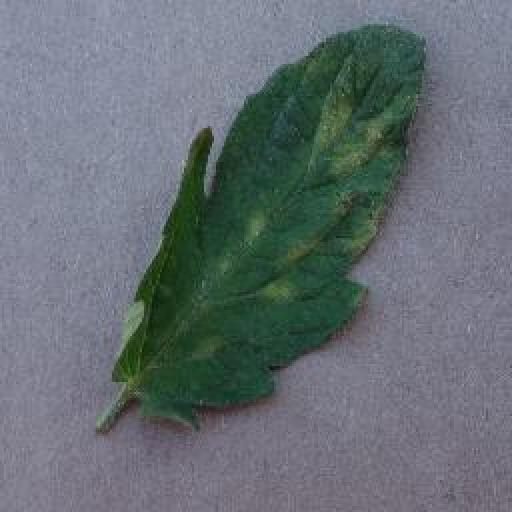disease_tomato: (114, 21, 425, 435)
